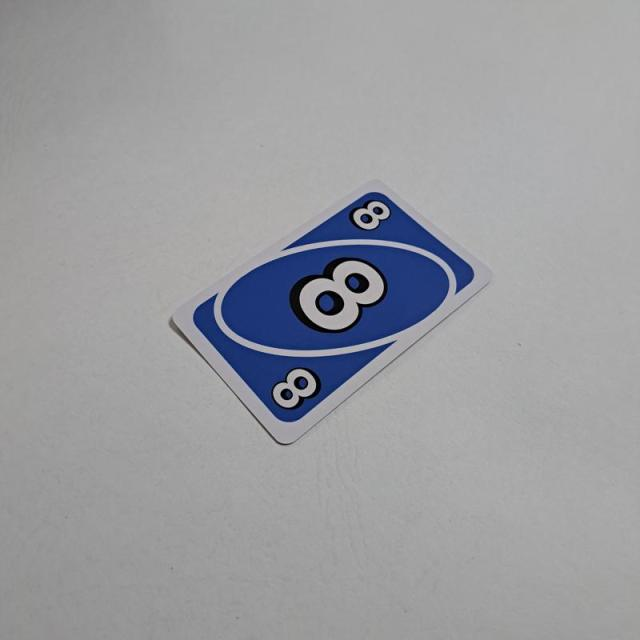Blue_Card: (188, 187, 480, 426)
Number_8: (345, 195, 395, 235)
